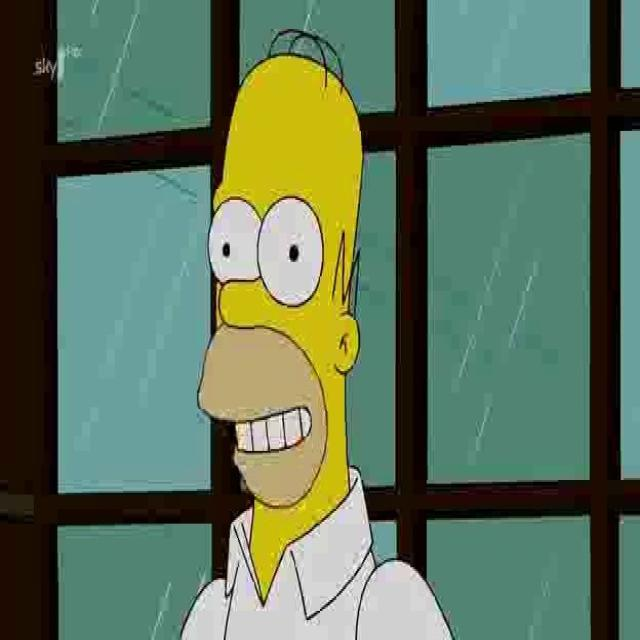Homer Simpson: (195, 29, 367, 527)
